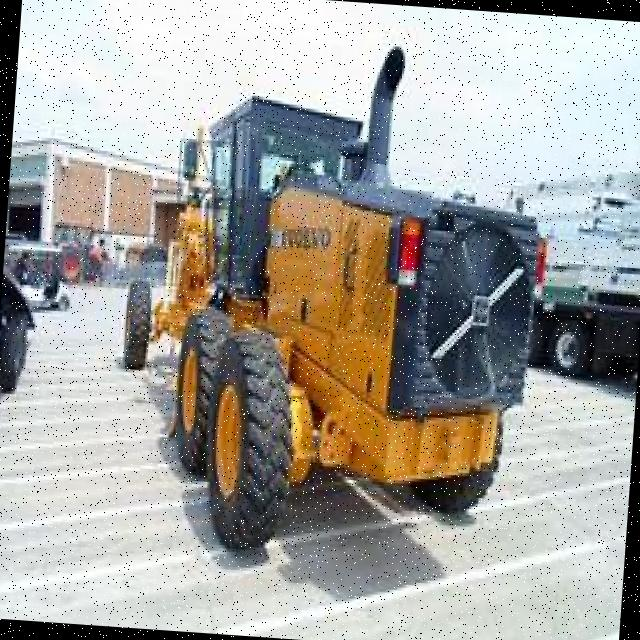Grader: (101, 67, 540, 564)
